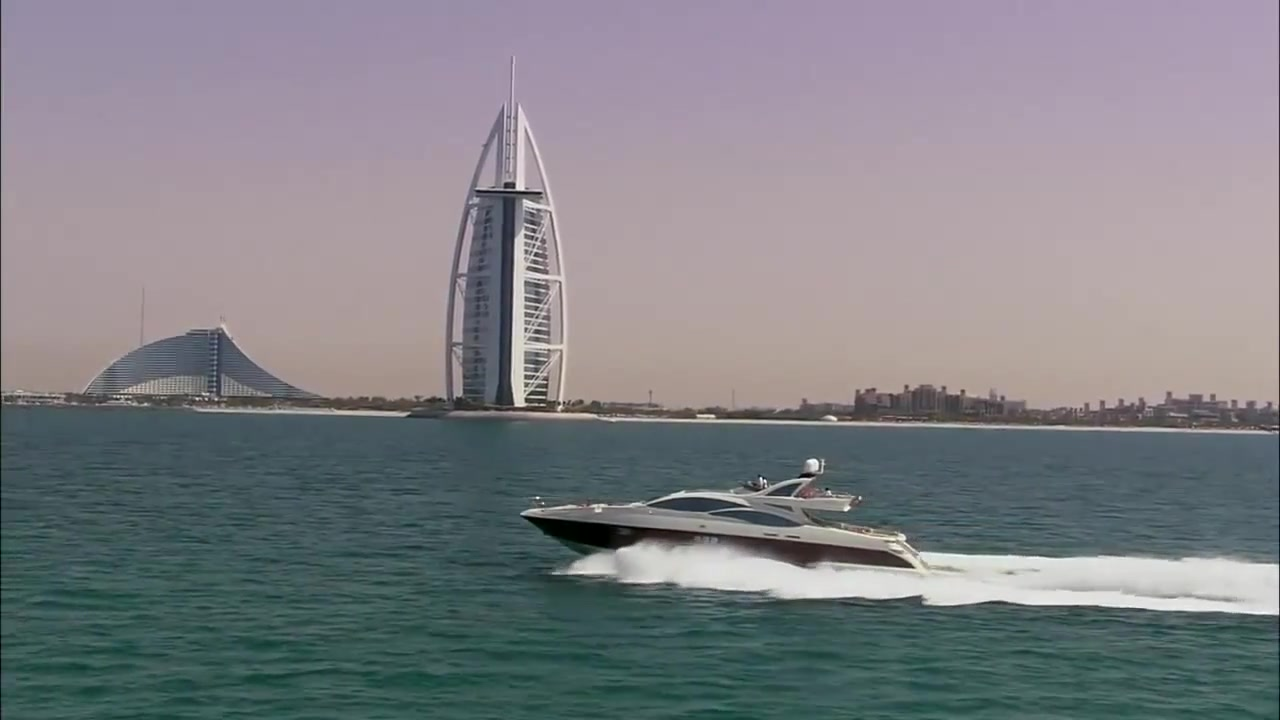boat: (517, 462, 933, 583), (401, 393, 465, 425)
